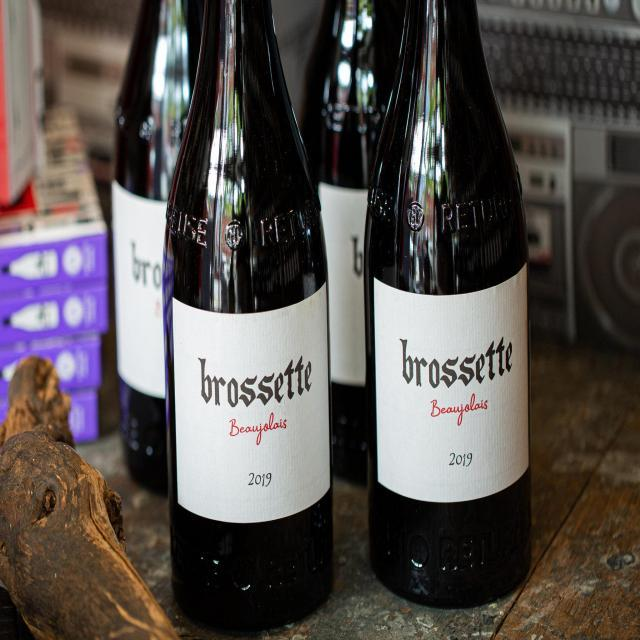Glass: (156, 0, 342, 640)
